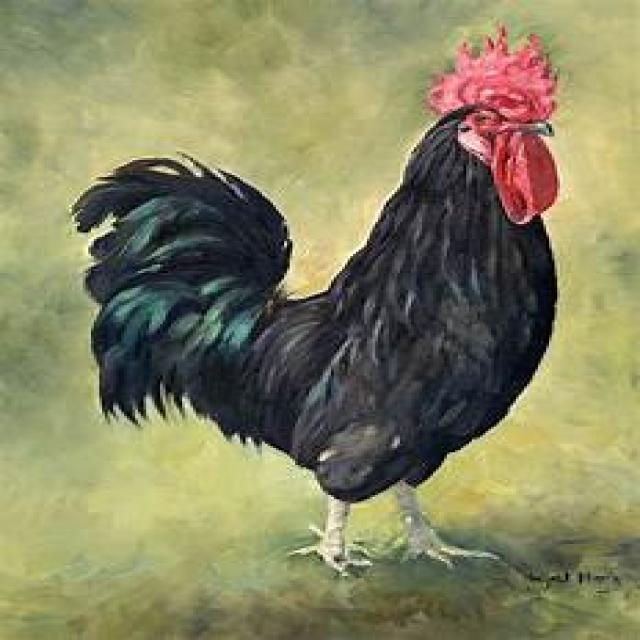hen: (73, 29, 558, 572)
